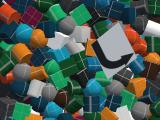Left: (91, 22, 137, 80)
